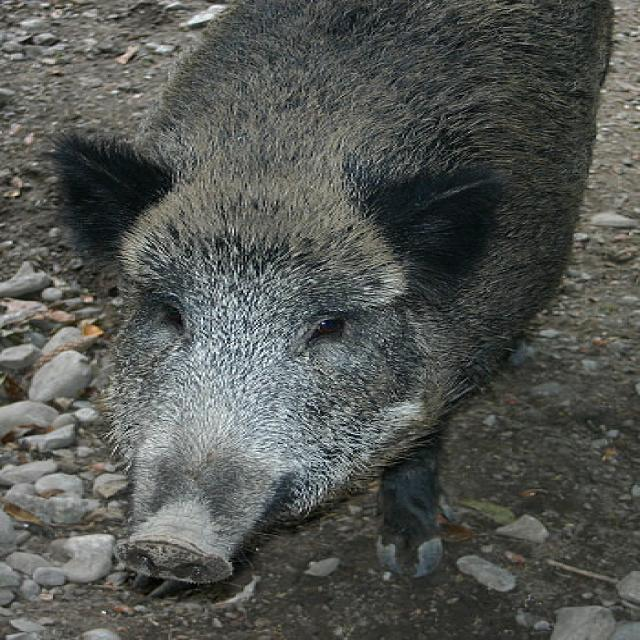boar: (7, 0, 640, 625)
